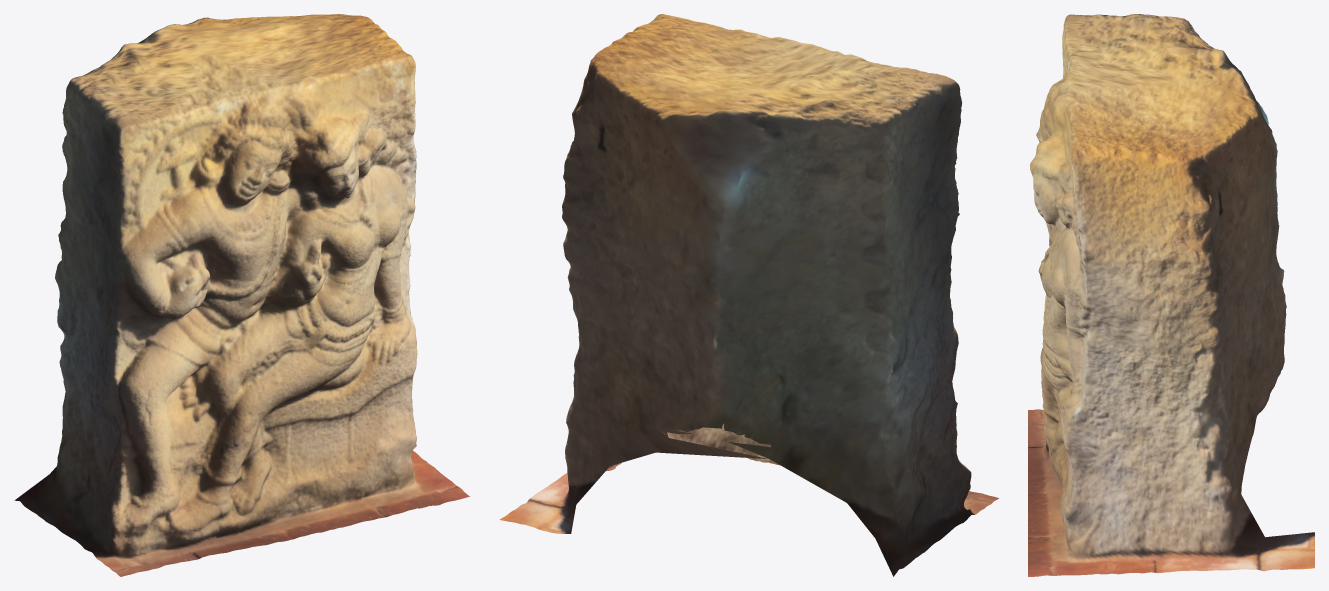
File: anuradhapura_-_weltkulturerbe.glb
3 renders of one model, left to right at view 1: azimuth 30°, elevation 25°; view 2: azimuth 150°, elevation 25°; view 3: azimuth 270°, elevation 25°, orthographic. The views are drawn at different scales.
Parts seen in each view (by area): view 1: Object_2, Object_3; view 2: Object_2, Object_3; view 3: Object_3, Object_2.
Part boxes in pixels (x1,y1,x2,y2): Object_2: (14, 14, 469, 576); Object_3: (20, 14, 469, 575); Object_2: (499, 14, 998, 576); Object_3: (521, 15, 994, 569); Object_3: (1028, 14, 1286, 576); Object_2: (1028, 14, 1314, 576).
Size of the model in its own units: 0.828 by 0.9946 by 0.6197.
Materials: 1 (1 with a texture image).
